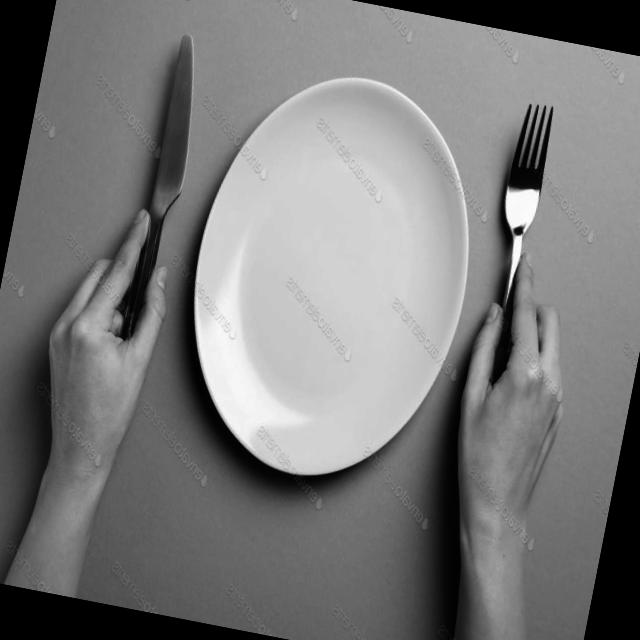fork: (465, 100, 559, 404)
